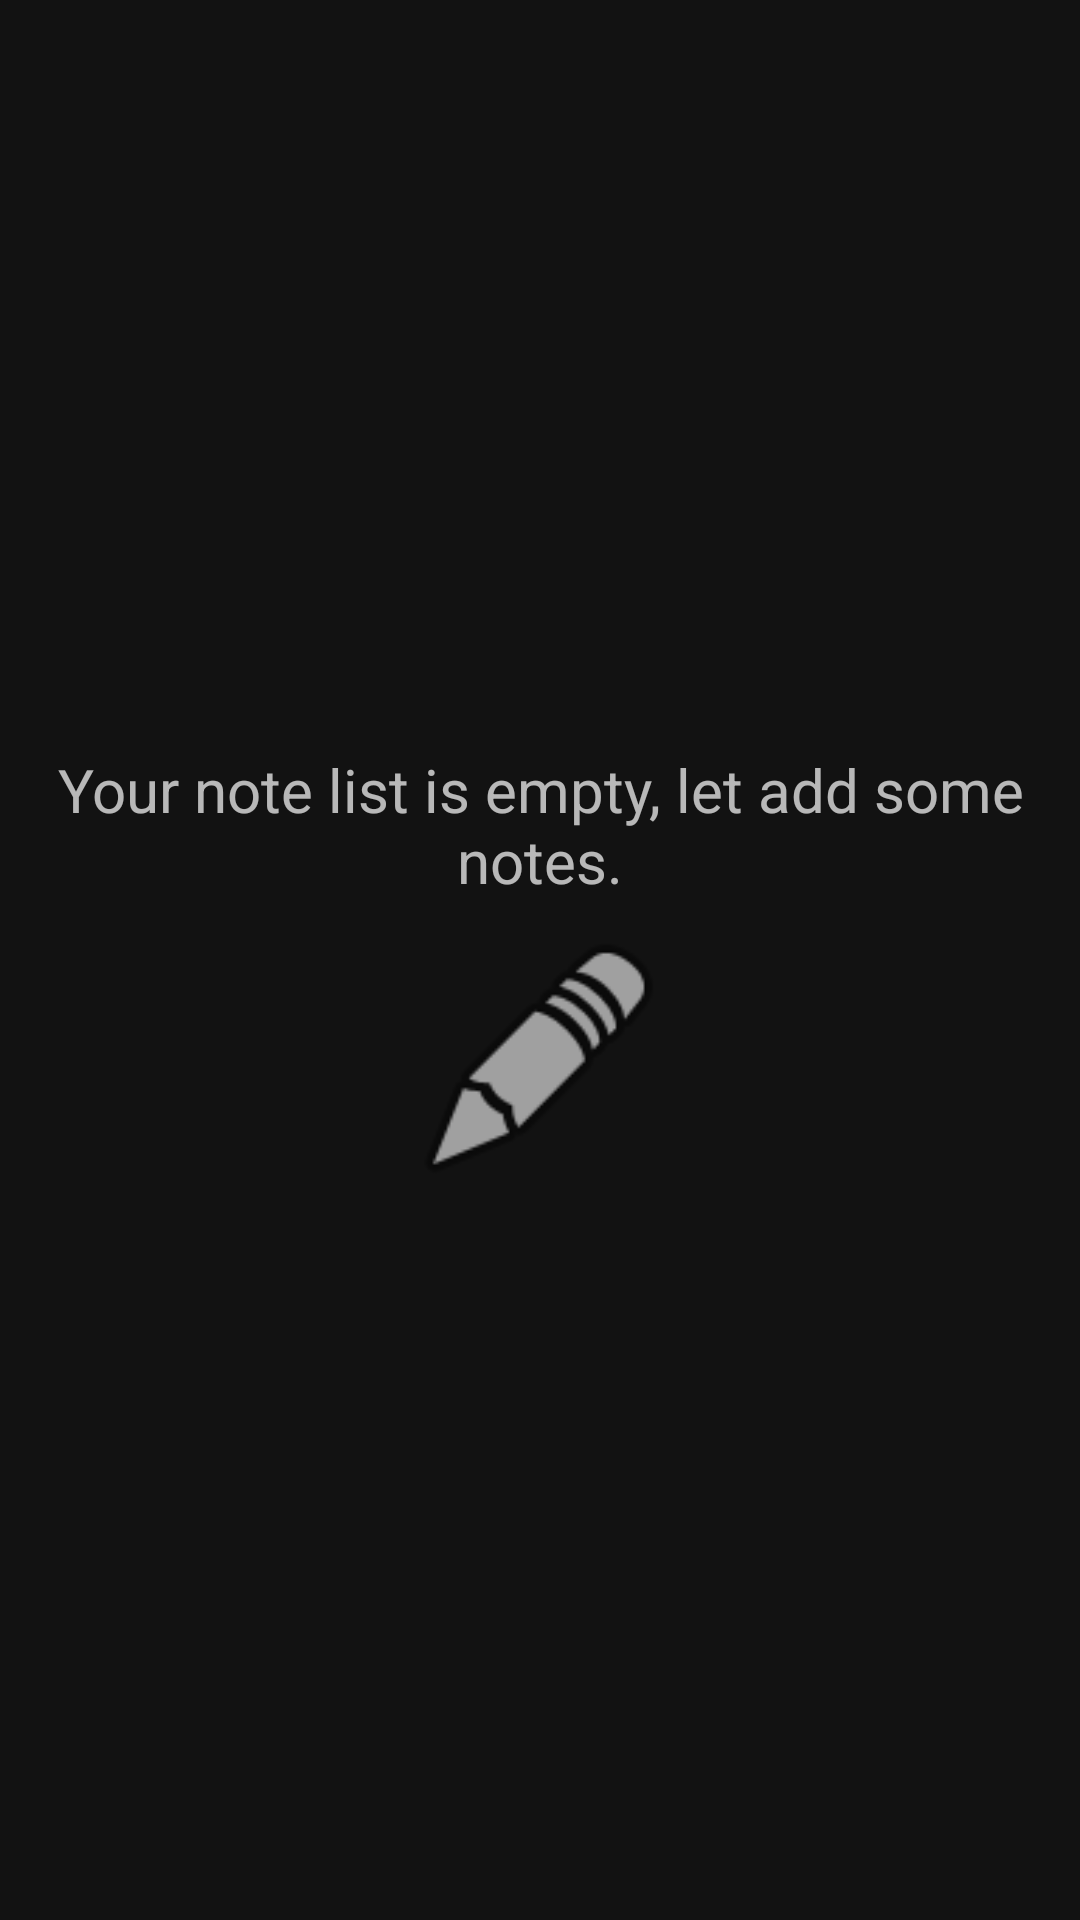

Point at icon controls on the screen. Image size 1080 x 1920, points as (x,y).
edit: (539,1058)
